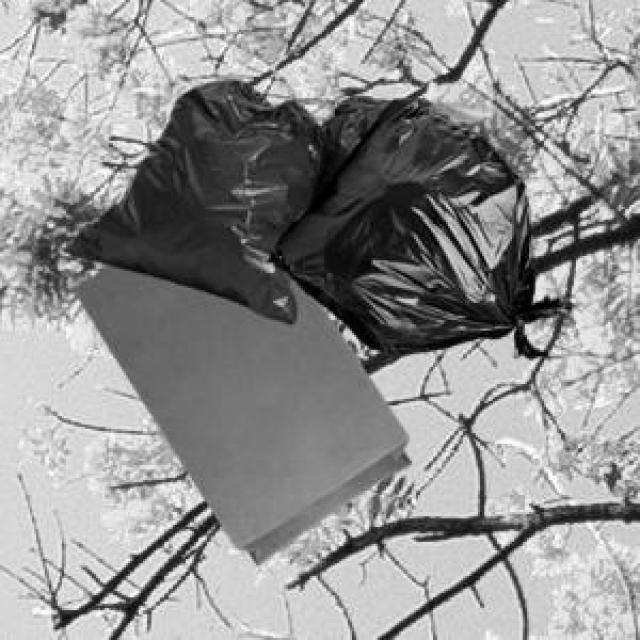miscellaneous trash: (60, 75, 478, 320), (265, 94, 568, 354)
paper: (70, 260, 406, 561)
